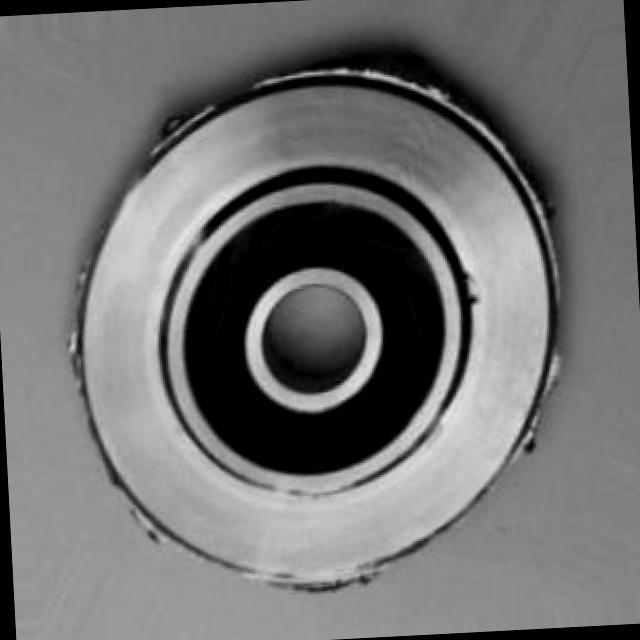Defect: (134, 100, 222, 146)
